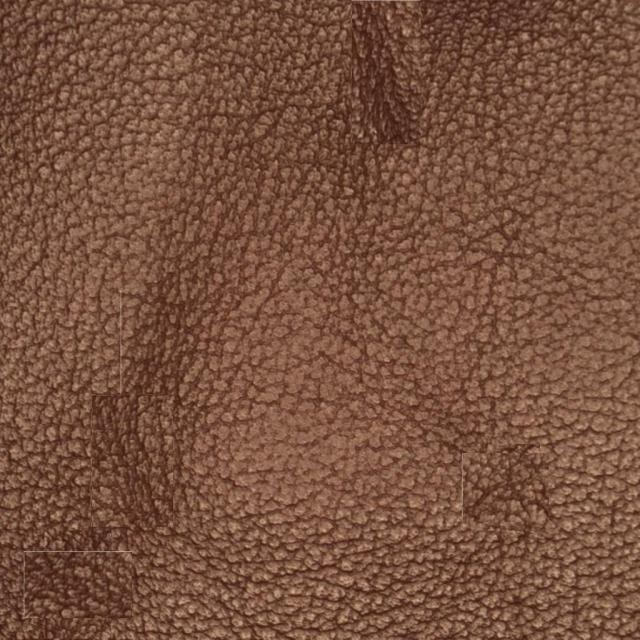Healed Injury: (331, 14, 481, 196), (56, 358, 198, 550), (456, 394, 573, 573)
